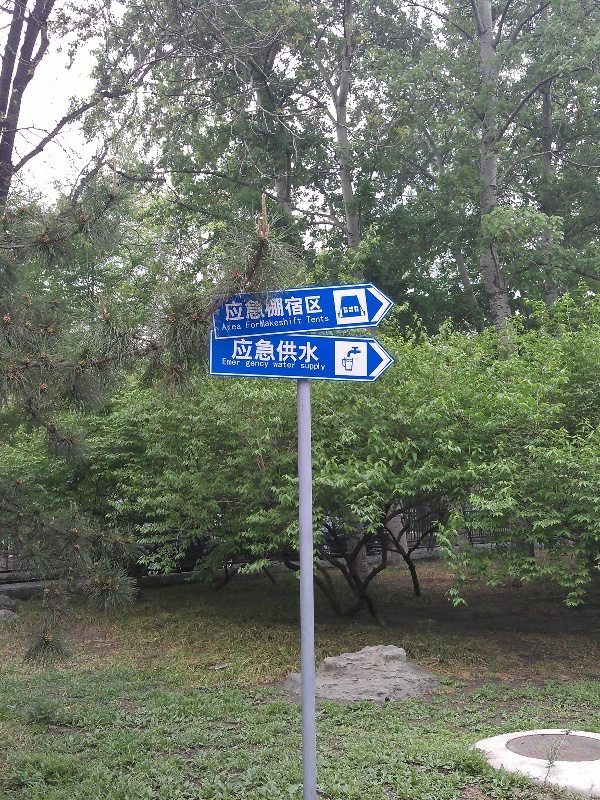text: (225, 292, 240, 323), (241, 292, 256, 323), (257, 292, 272, 323), (273, 292, 288, 323), (289, 292, 304, 323), (305, 292, 320, 323), (305, 337, 321, 364), (241, 337, 256, 364), (257, 337, 272, 364), (273, 337, 288, 364), (289, 337, 304, 364), (257, 316, 272, 330), (273, 316, 288, 330), (289, 316, 303, 330), (233, 337, 240, 364), (225, 322, 240, 332), (305, 362, 320, 372), (246, 316, 256, 330), (225, 358, 241, 366), (306, 315, 320, 324), (274, 361, 288, 369), (257, 361, 270, 369), (321, 315, 330, 324), (246, 361, 256, 369), (222, 292, 224, 323), (321, 292, 323, 323), (289, 361, 296, 369), (321, 362, 326, 372), (221, 322, 224, 332), (301, 362, 304, 372), (222, 358, 224, 366), (241, 322, 242, 332)
